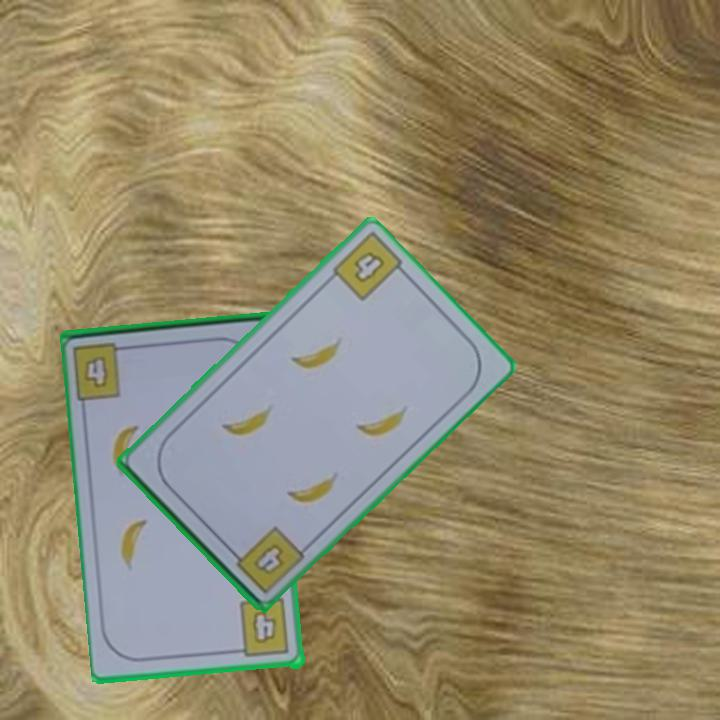4b: (225, 522, 307, 597), (230, 596, 292, 661), (350, 247, 388, 286), (81, 356, 112, 391)
